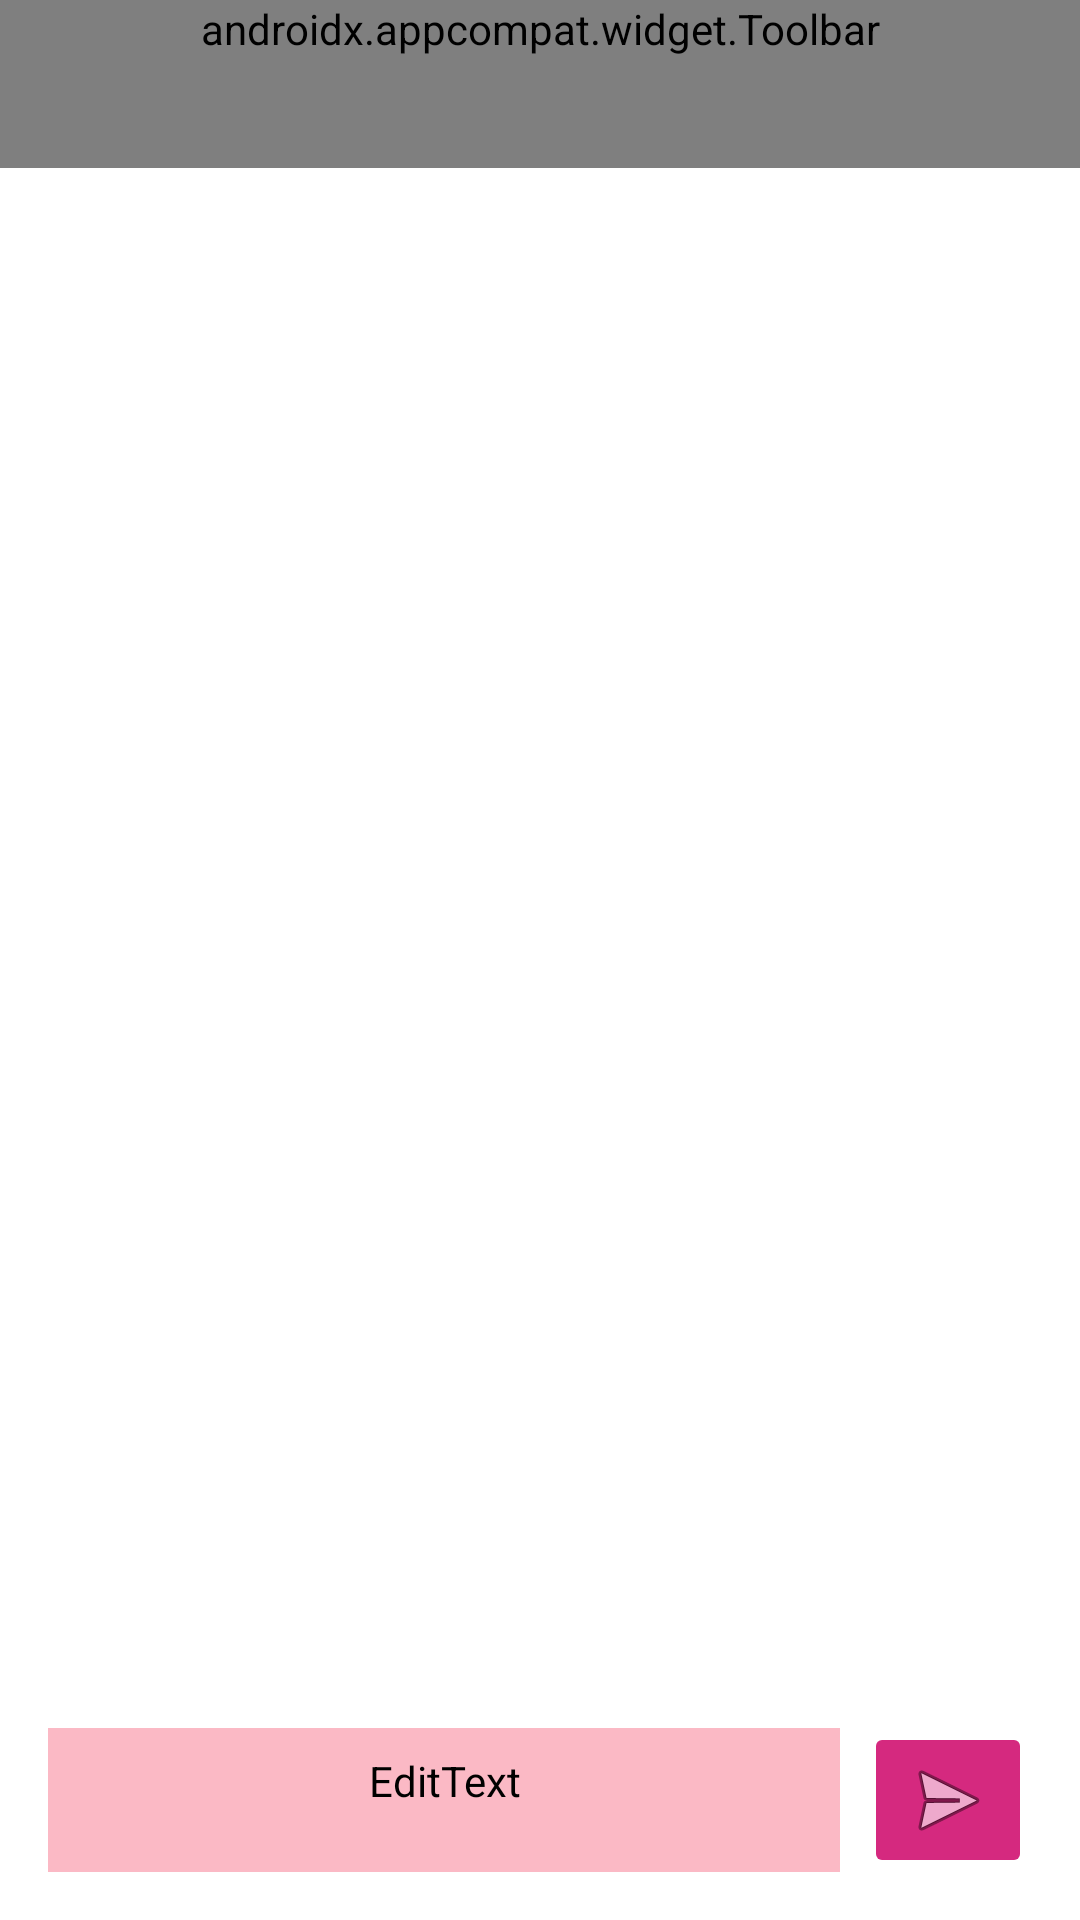

Locate icon controls on the screen. Image size 1080 × 1920, boxes as (x1, y1, x2, y2).
send: (876, 1740, 1020, 1860)
